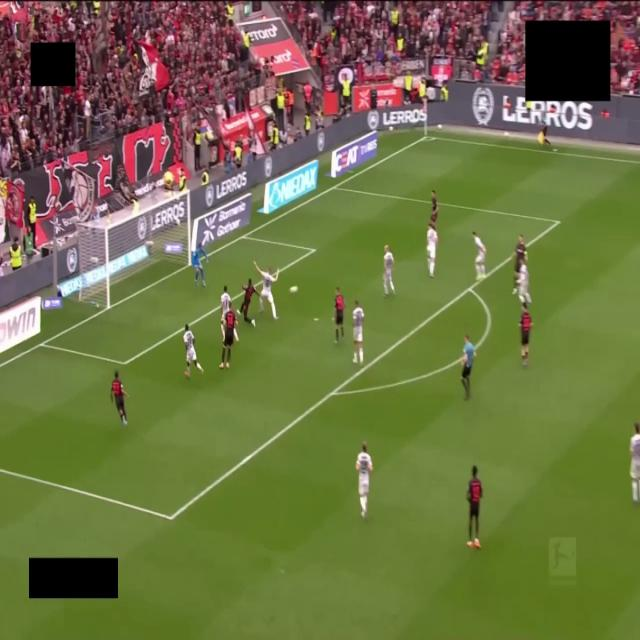ball: (290, 286, 297, 293)
player: (254, 263, 278, 319), (467, 465, 482, 548), (356, 442, 372, 518), (183, 325, 203, 377), (220, 307, 236, 368), (111, 371, 127, 425), (513, 235, 527, 295), (519, 303, 532, 366), (191, 243, 208, 286), (630, 423, 639, 503), (240, 279, 255, 327), (353, 301, 364, 364), (472, 232, 486, 279), (427, 223, 438, 278), (383, 246, 395, 296), (518, 258, 531, 303), (334, 288, 344, 343), (221, 286, 231, 337), (431, 189, 438, 224)
referee: (461, 336, 475, 399)
